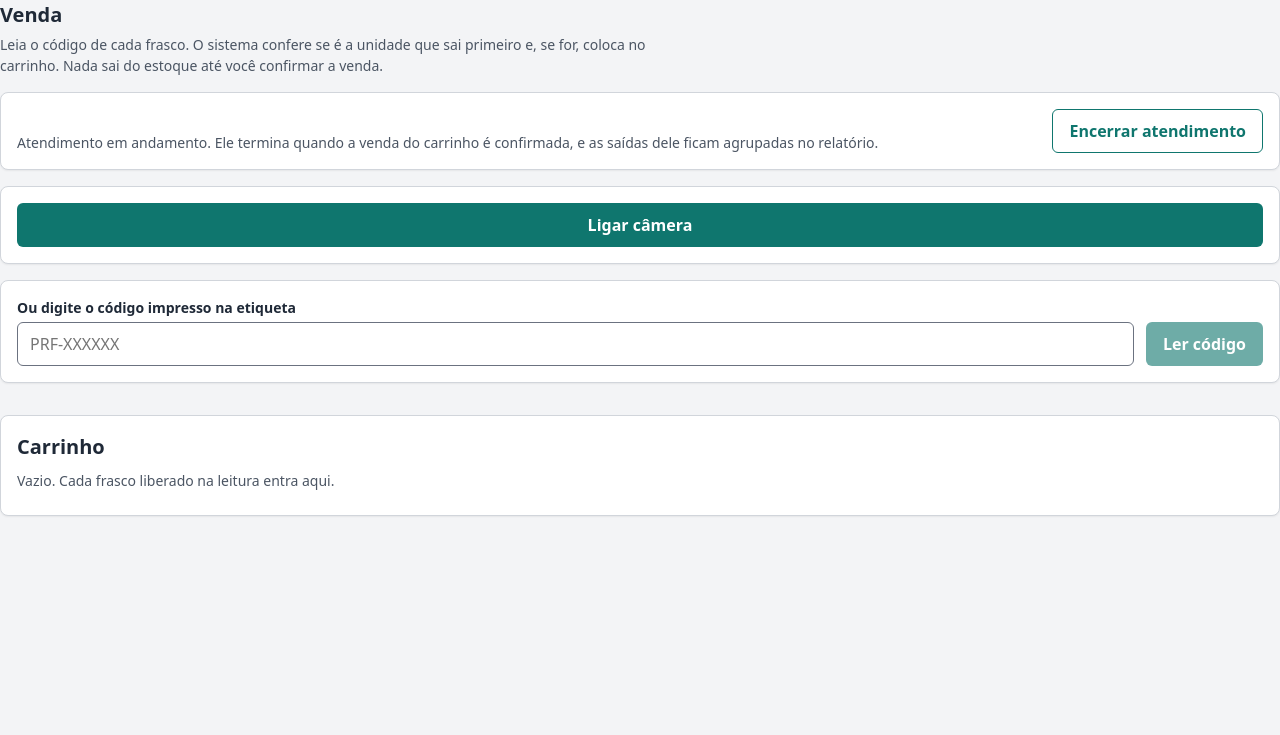
it: TelaVenda (RF05, RF06, RNF07, T34) › laço de revalidação (RF06) › bloqueia, aceita a segunda leitura e libera, na mesma montagem
Type "PRF-ZZZZZZ" into the field labelled "Ou digite o código impresso na etiqueta". click: (575,344)
box: [17,322,1134,366]
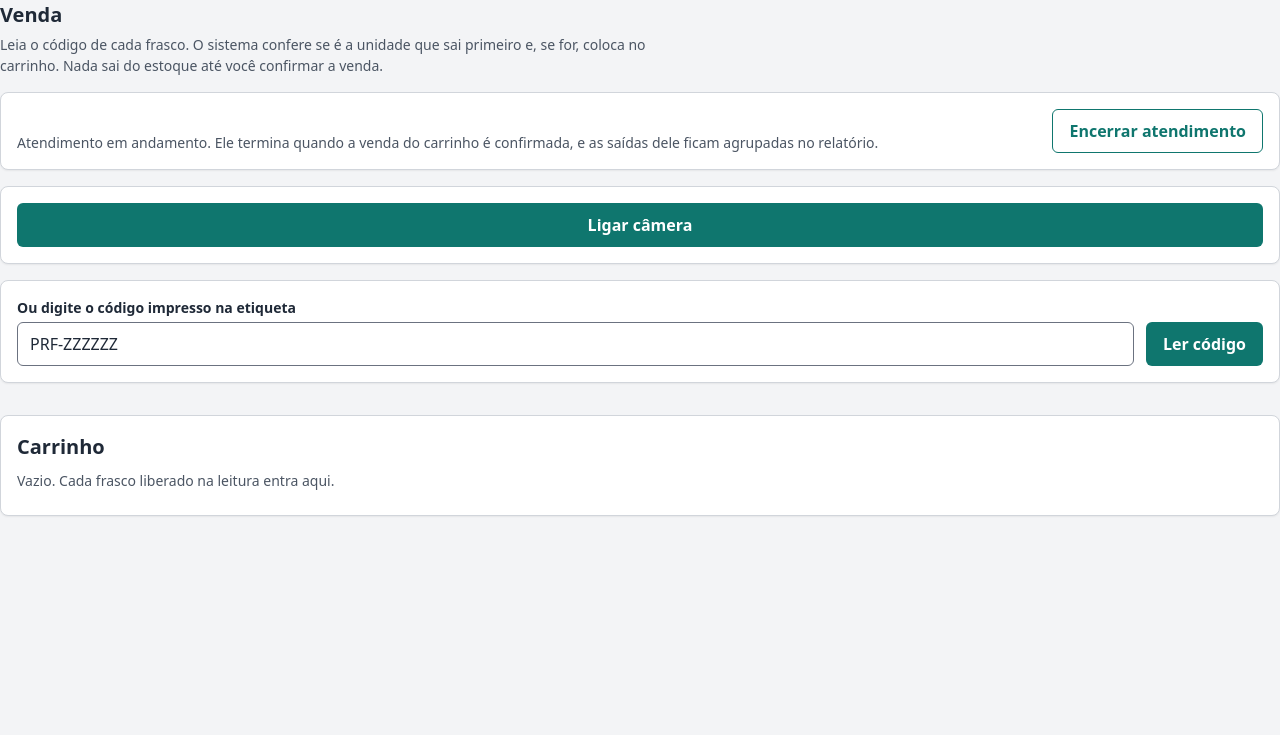
Click the button "Ler código". click: (1204,344)
box: [1146,322,1263,366]
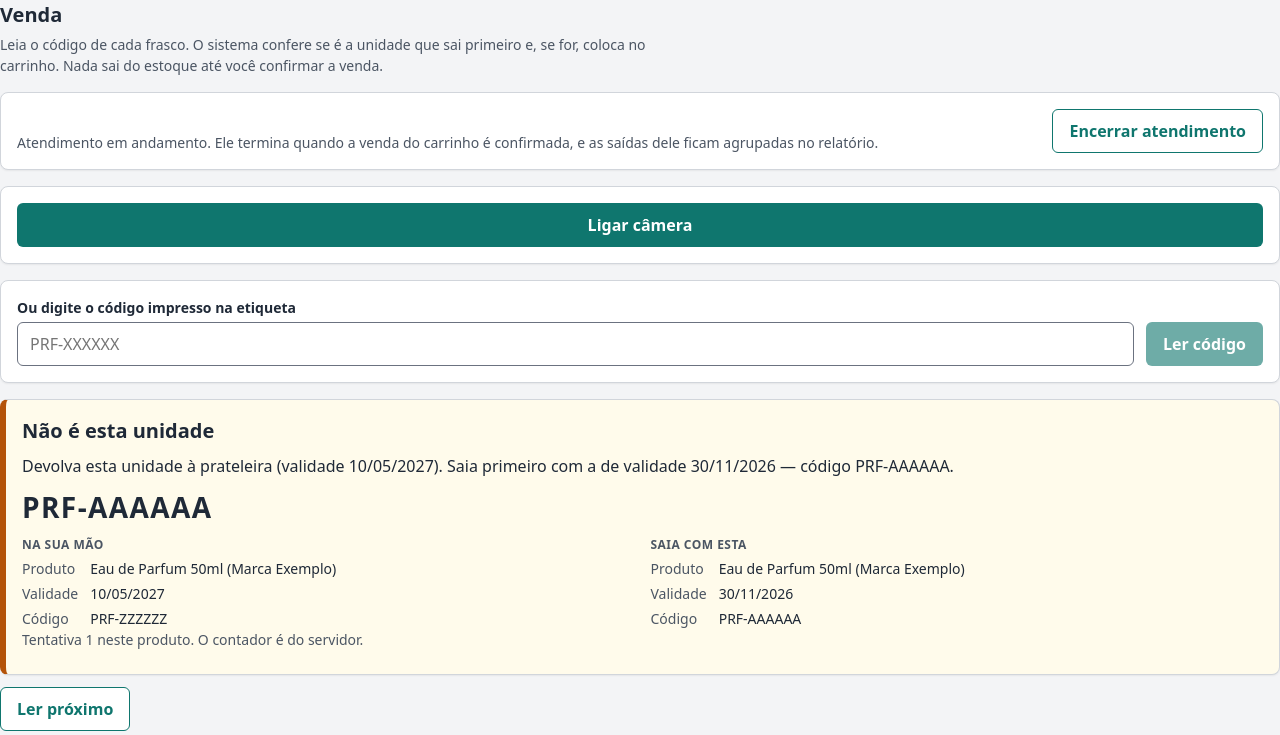
Expected: the heading "Não é esta unidade" is shown, [22,417,214,444]
Type "PRF-AAAAAA" into the field labelled "Ou digite o código impresso na etiqueta". click: (575,344)
box: [17,322,1134,366]
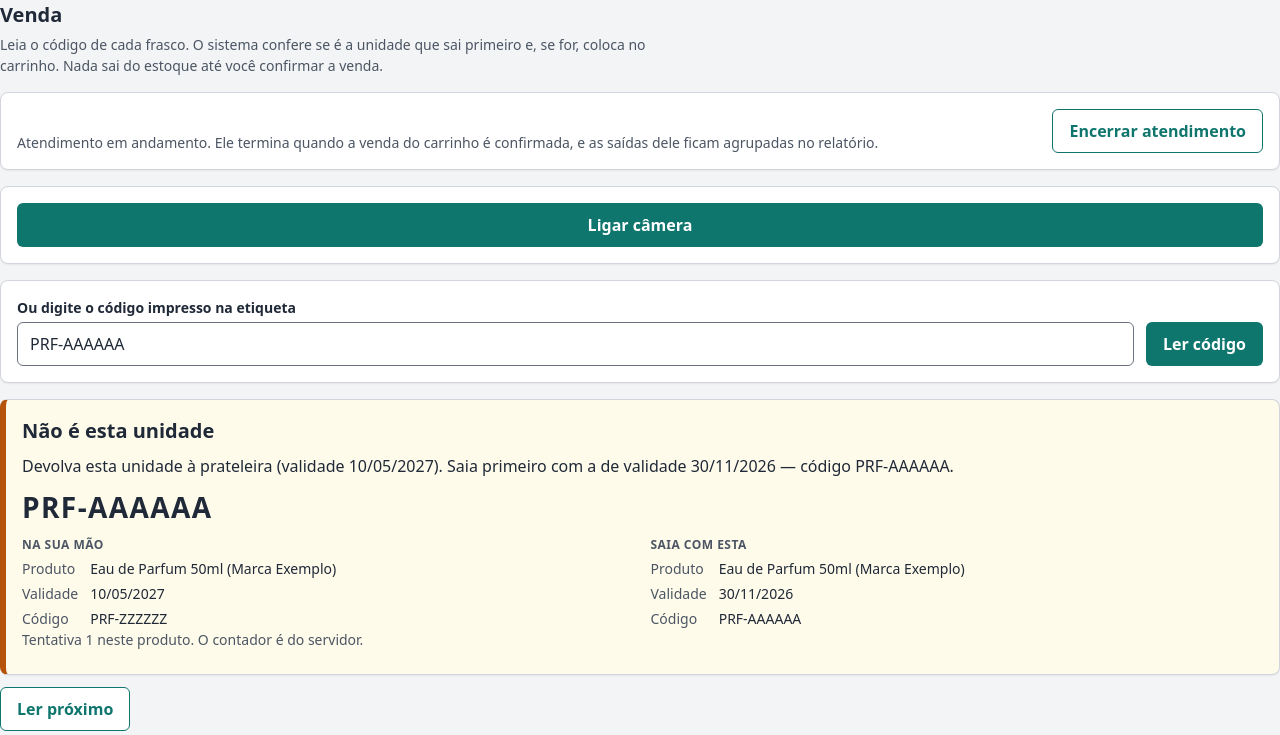
Click the button "Ler código". click: (1204,344)
box: [1146,322,1263,366]
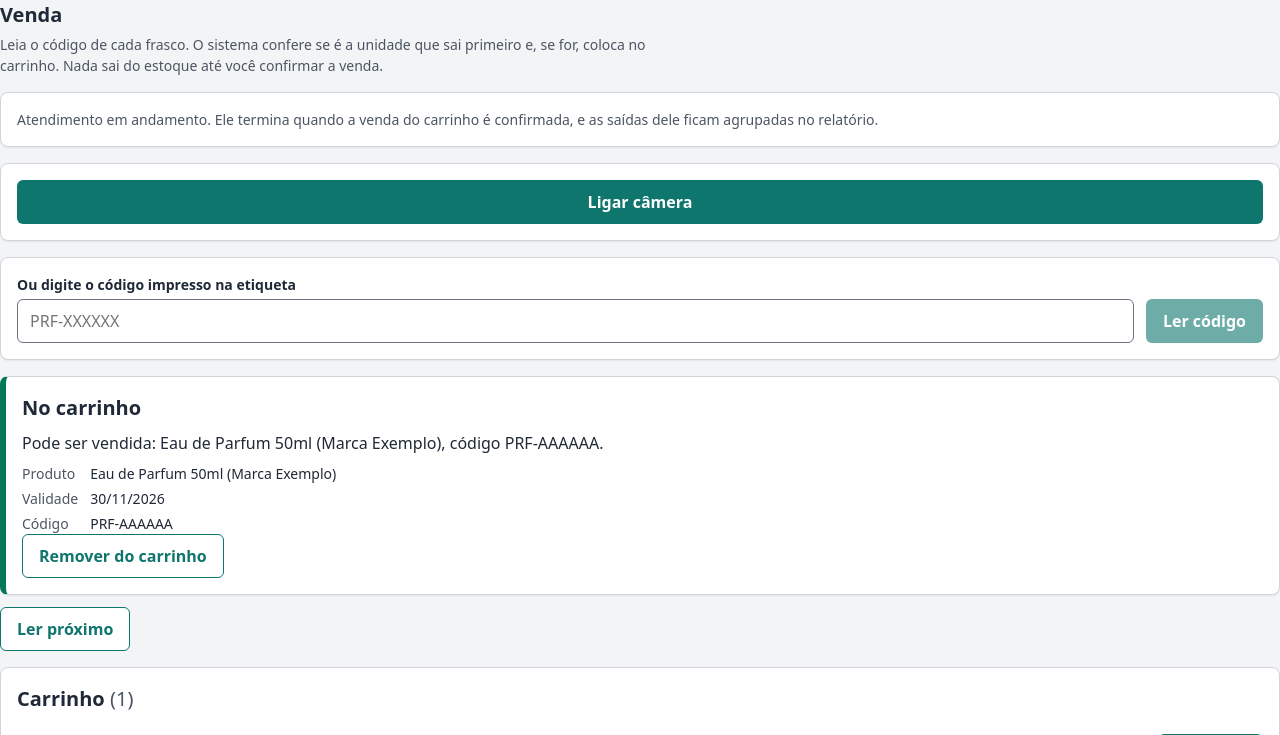
Expected: the heading "No carrinho" is shown, [22,394,141,421]
Expected: the heading "Não é esta unidade" is gone
